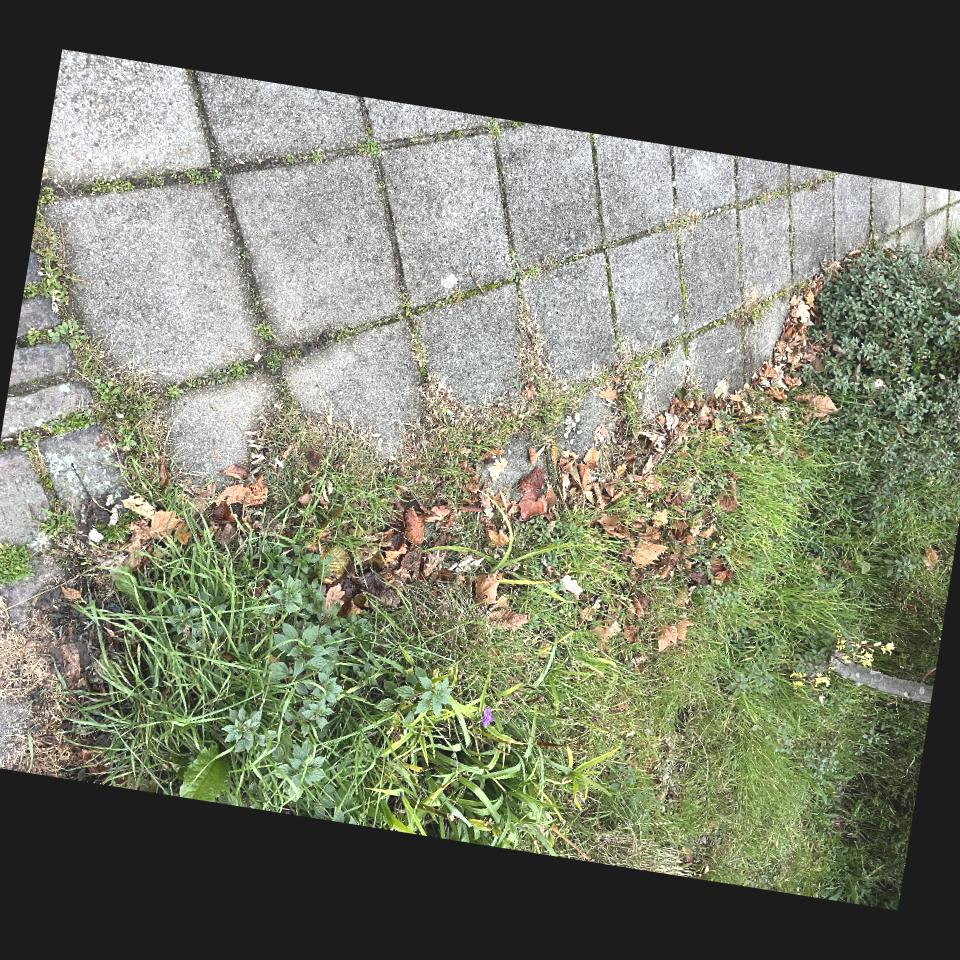weed: (434, 421, 600, 678), (505, 689, 630, 837), (385, 303, 471, 416), (270, 258, 329, 420), (476, 940, 556, 960), (268, 875, 284, 927), (218, 579, 236, 610), (239, 715, 257, 745), (262, 784, 264, 787)
